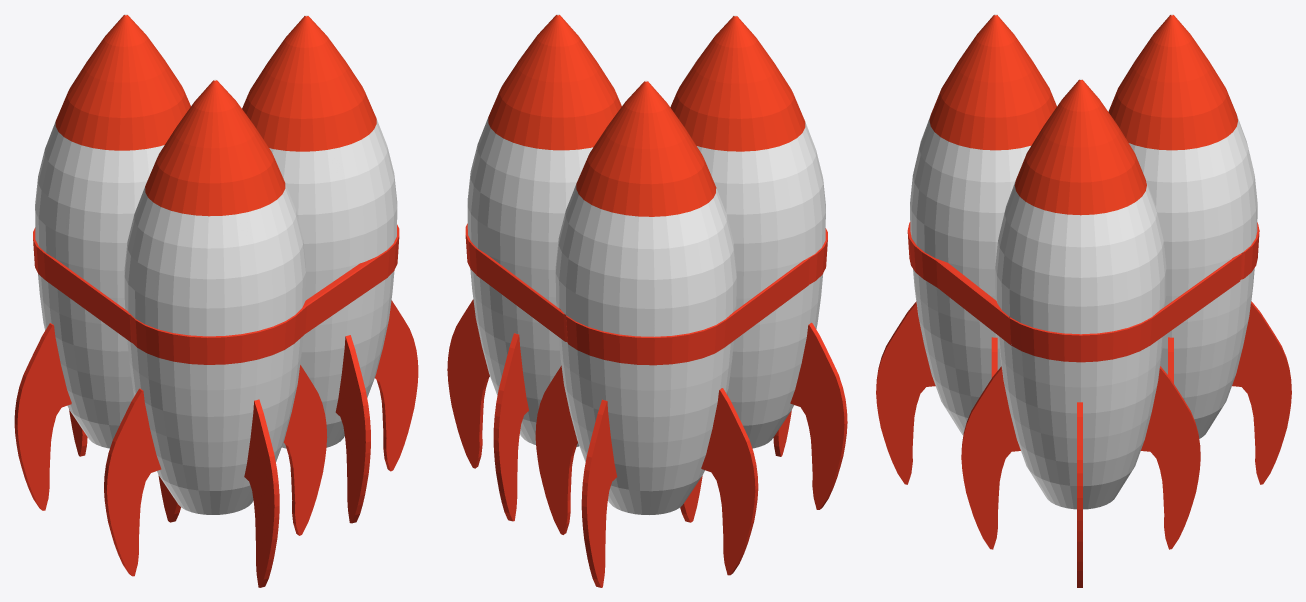
File: RocketSpawn.fbx
3 renders of one model, left to right at view 1: azimuth 30°, elevation 25°; view 2: azimuth 150°, elevation 25°; view 3: azimuth 270°, elevation 25°, orthographic.
Visible parts, largest first — view 1: Cylinder.002; view 2: Cylinder.002; view 3: Cylinder.002.
Part boxes in pixels (x1,y1,x2,y2): Cylinder.002: (14,14,418,587); Cylinder.002: (447,14,847,587); Cylinder.002: (876,14,1291,587).
Size of the model in its own units: 33.64 by 42.99 by 34.6.
